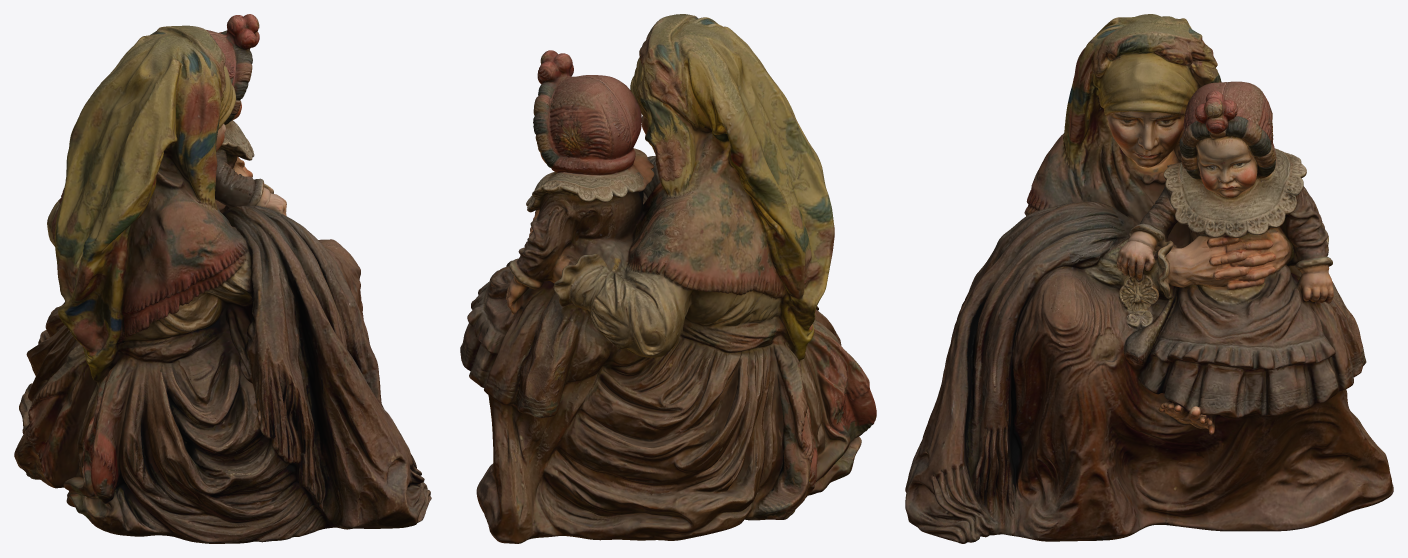
Rendered from modelBanana.glb.
The picture shows the model from 3 angles, left to right: view 1: azimuth 30°, elevation 25°; view 2: azimuth 150°, elevation 25°; view 3: azimuth 270°, elevation 25°; orthographic projection. The views are drawn at different scales.
Visible parts, largest first — view 1: tripo_node_d08e6627-c0a4-4990-8f29-bd216df017f4; view 2: tripo_node_d08e6627-c0a4-4990-8f29-bd216df017f4; view 3: tripo_node_d08e6627-c0a4-4990-8f29-bd216df017f4.
Boxes of the visible parts, x1=… form: tripo_node_d08e6627-c0a4-4990-8f29-bd216df017f4: x1=14, y1=14, x2=431, y2=543; tripo_node_d08e6627-c0a4-4990-8f29-bd216df017f4: x1=460, y1=14, x2=876, y2=543; tripo_node_d08e6627-c0a4-4990-8f29-bd216df017f4: x1=905, y1=14, x2=1393, y2=543.
Size of the model in its own units: 7.35 by 9.81 by 9.61.
Materials: 1 (1 with a texture image).
